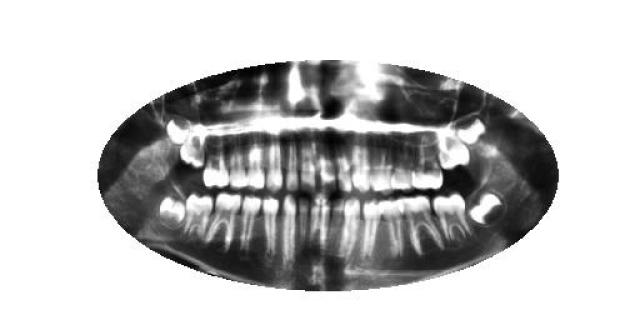Restorations: (466, 189, 509, 229), (155, 195, 187, 230)
